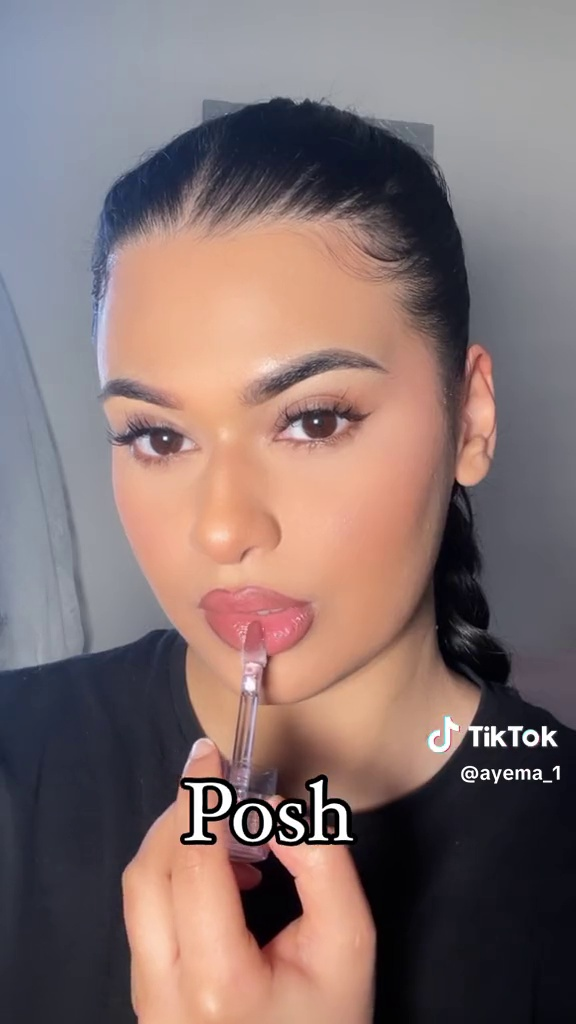train' :'yolo_data/train/images',: (183, 611, 297, 869)
